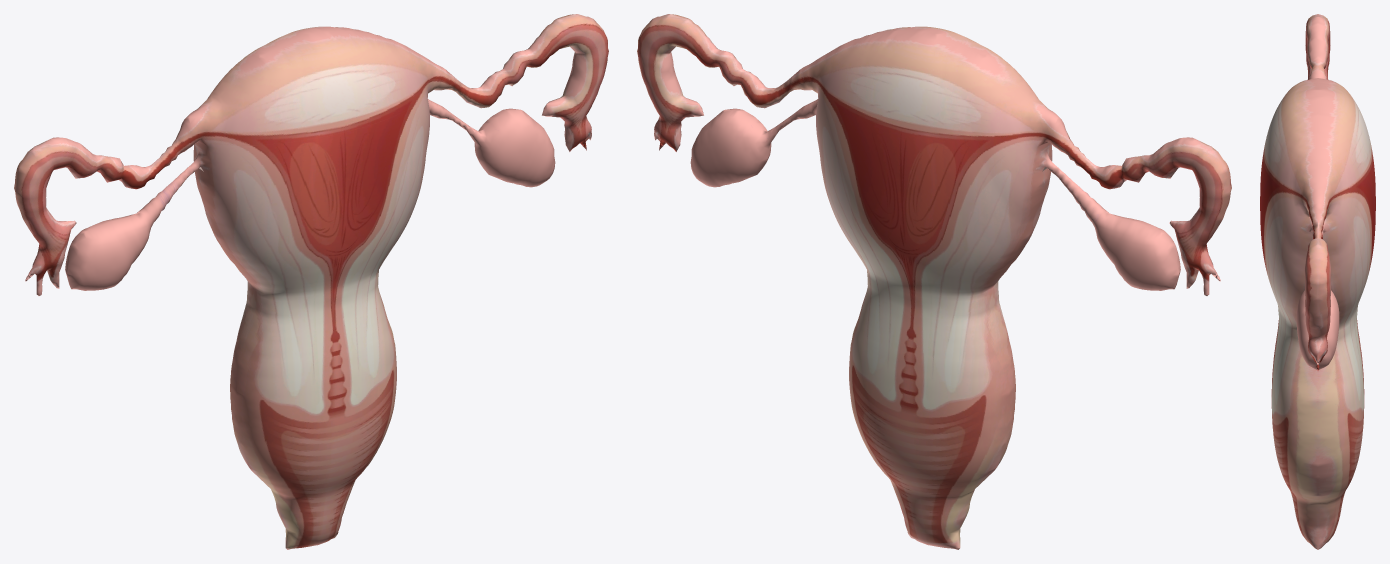
The model's file is Uterus and Ovarium fix.fbx.
3 views of the same model, side by side, from view 1: azimuth 30°, elevation 25°; view 2: azimuth 150°, elevation 25°; view 3: azimuth 270°, elevation 25° (orthographic). The views are drawn at different scales.
Visible parts, largest first — view 1: root; view 2: root; view 3: root.
Boxes of the visible parts, bbox=[...] form: root: bbox=[14, 14, 608, 549]; root: bbox=[637, 14, 1231, 549]; root: bbox=[1260, 14, 1375, 549].
Size of the model in its own units: 0.8286 by 0.6851 by 0.1597.
Materials: 1 (1 with a texture image).
